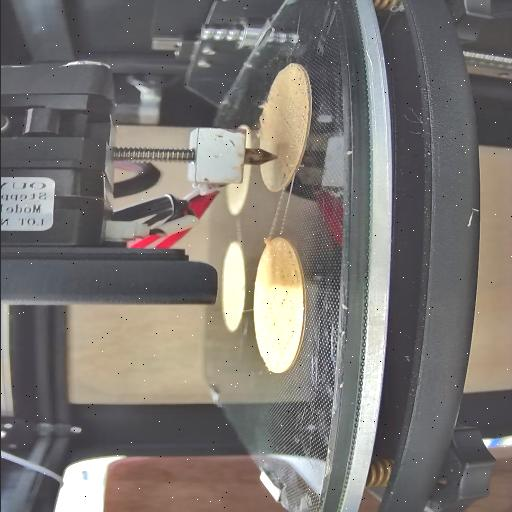under_extrusion: (266, 290, 298, 356), (278, 67, 310, 129), (274, 246, 304, 286), (276, 168, 290, 187)
